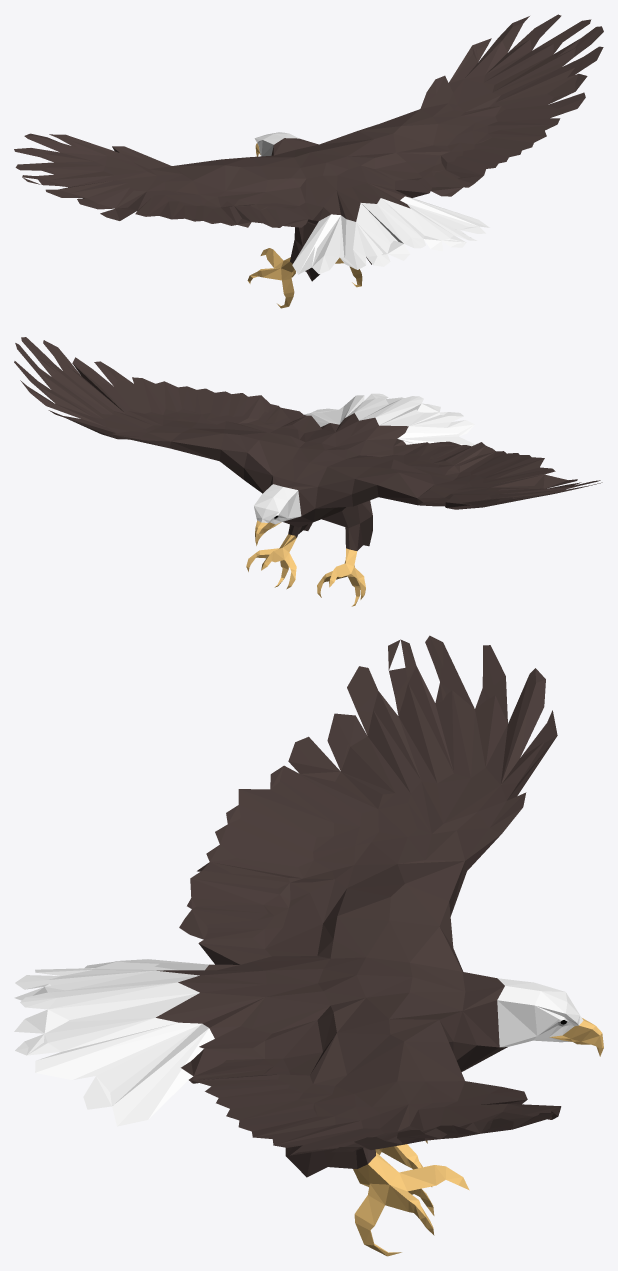
The model's file is adlerWingsUp.dae.
3 renders of one model, top to bottom at view 1: azimuth 30°, elevation 25°; view 2: azimuth 150°, elevation 25°; view 3: azimuth 270°, elevation 25°, orthographic. The views are drawn at different scales.
Parts seen in each view (by area): view 1: SketchUp (×4); view 2: SketchUp (×5); view 3: SketchUp (×5).
Part boxes in pixels (x1,y1,x2,y2): SketchUp (×4): (15, 16, 603, 308); SketchUp (×5): (15, 337, 600, 606); SketchUp (×5): (14, 635, 603, 1256).
Size of the model in its own units: 1432 by 711 by 464.
